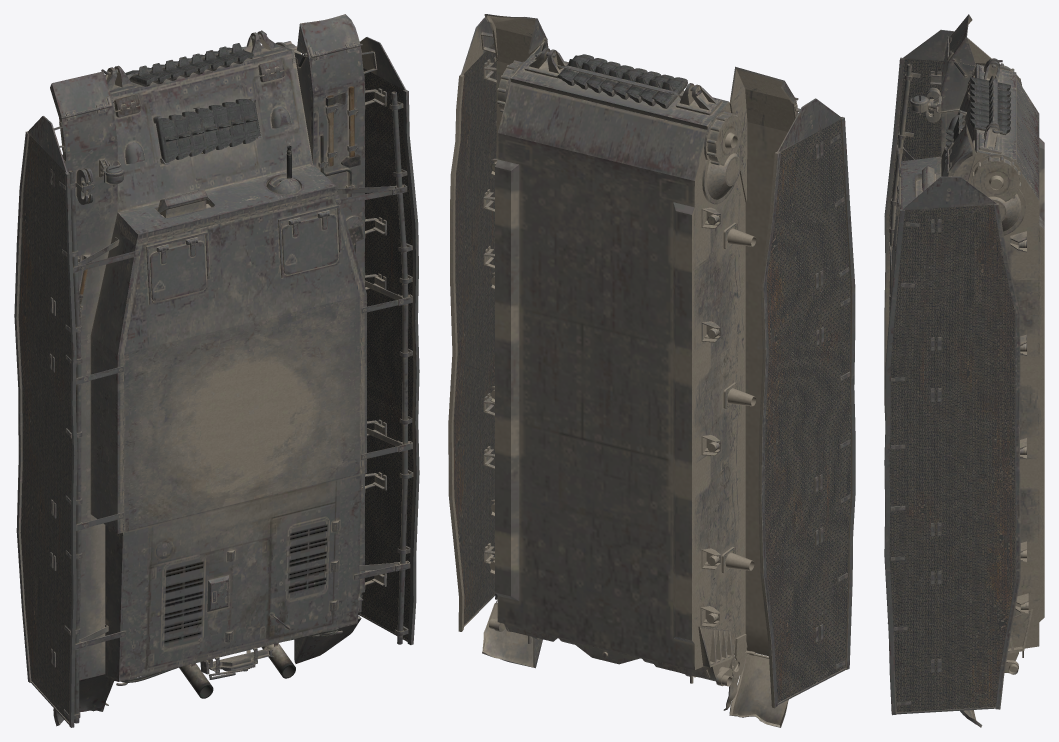
The model's file is Hull.glb.
3 renders of one model, left to right at view 1: azimuth 30°, elevation 25°; view 2: azimuth 150°, elevation 25°; view 3: azimuth 270°, elevation 25°, orthographic. The views are drawn at different scales.
Parts seen in each view (by area): view 1: set_0_group_0; view 2: set_0_group_0; view 3: set_0_group_0.
Part boxes in pixels (x1,y1,x2,y2): set_0_group_0: (14,14,419,727); set_0_group_0: (448,14,855,727); set_0_group_0: (884,14,1044,727).
Bounding box in the file's own units: 3.37 × 5.98 × 1.47.
1 material, 1 textured.
